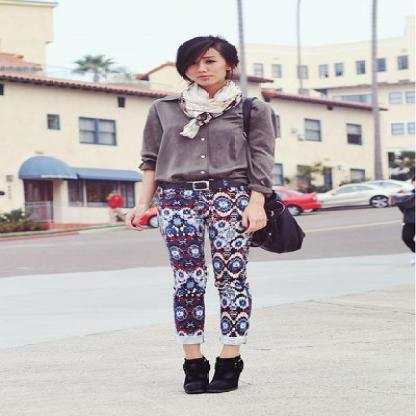bag: (245, 192, 311, 252)
jacket: (137, 92, 289, 208)
pants: (151, 180, 268, 345)
shoe: (183, 355, 242, 394)
